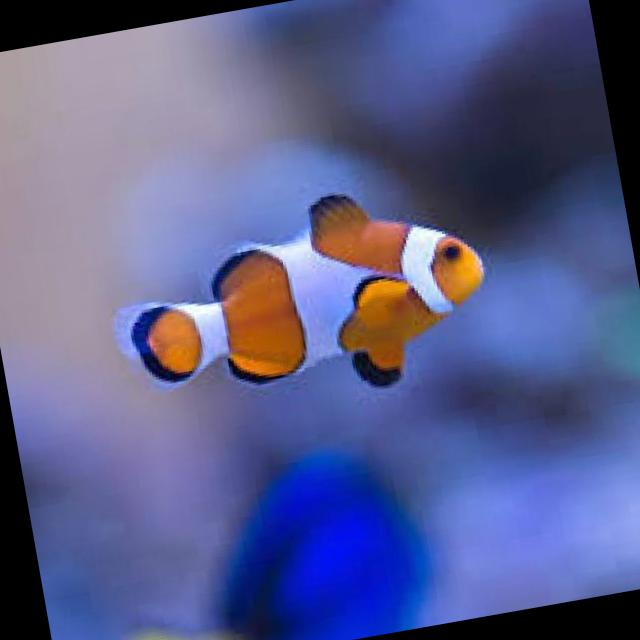ClownFish: (106, 167, 502, 437)
